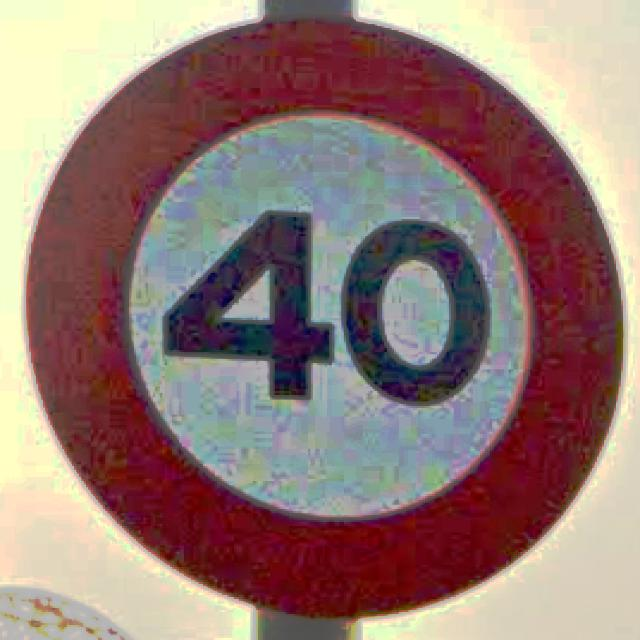max40: (22, 11, 626, 620)
